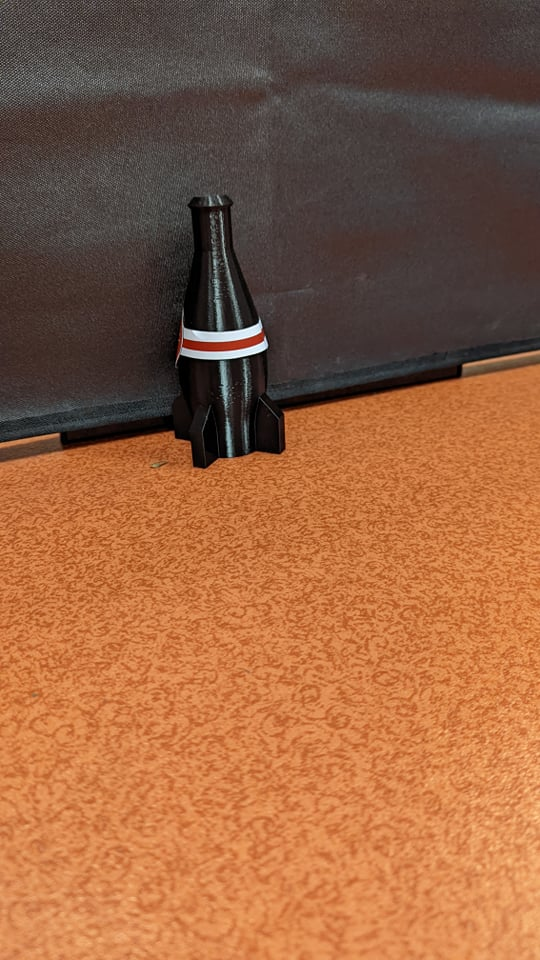bottle: (153, 191, 299, 476)
